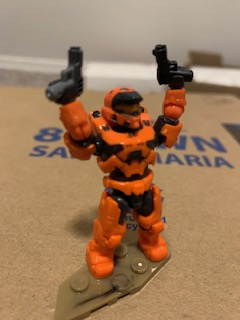pistol: (43, 47, 88, 106), (149, 41, 194, 90)
spartan: (53, 72, 189, 280)
up: (50, 78, 193, 181)
